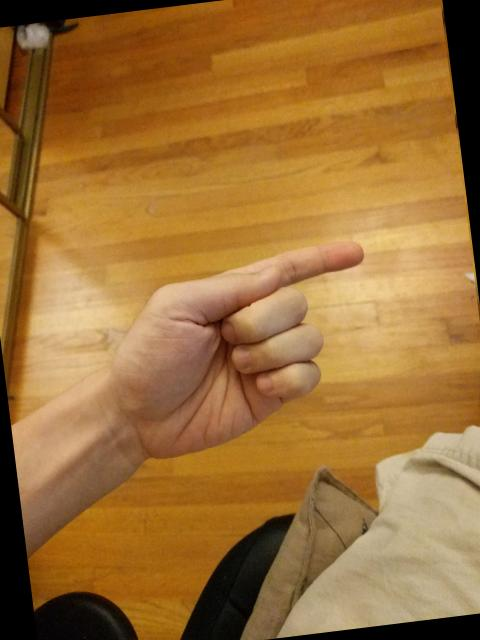G: (94, 232, 392, 470)
